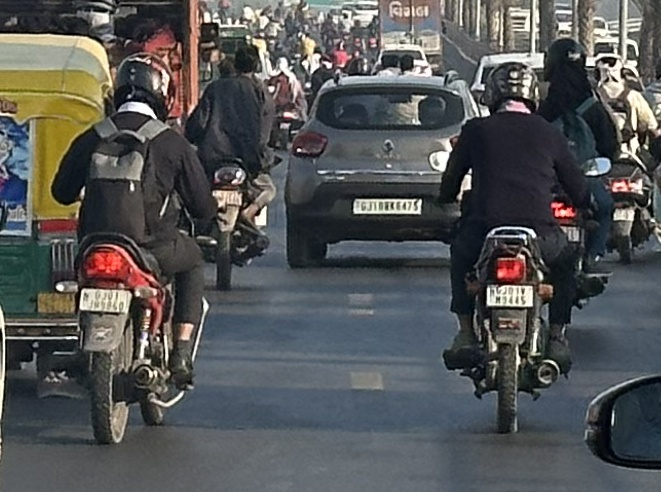BikeWithRider: (48, 48, 220, 447), (423, 63, 600, 436), (183, 42, 282, 295), (523, 39, 611, 313), (596, 44, 659, 264), (267, 51, 308, 157)
Helmet: (107, 49, 178, 121), (478, 61, 545, 112), (543, 37, 587, 79)
NoHelmet: (553, 65, 598, 103), (593, 53, 631, 90), (233, 44, 266, 79), (213, 52, 237, 82)
